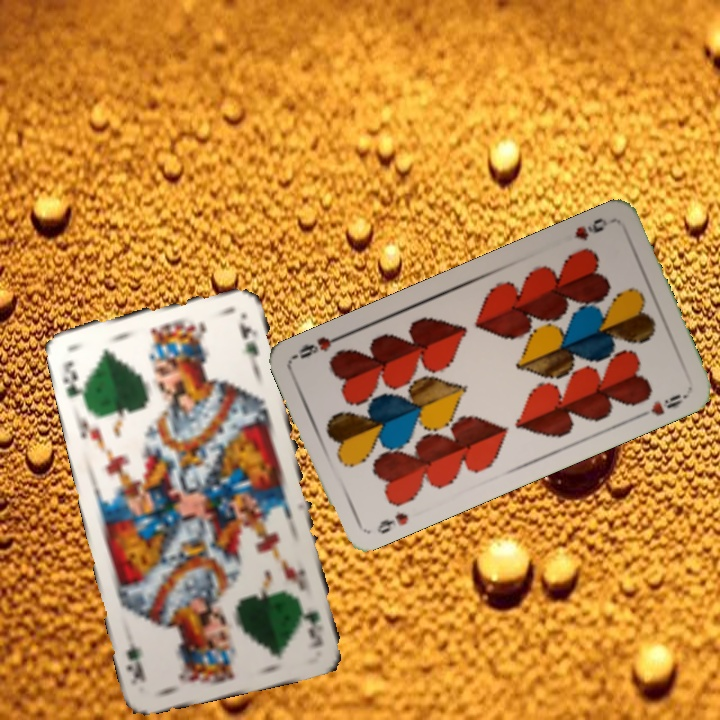GK: (58, 356, 89, 405), (301, 606, 327, 651)
H9: (570, 213, 611, 244), (372, 508, 411, 537)
